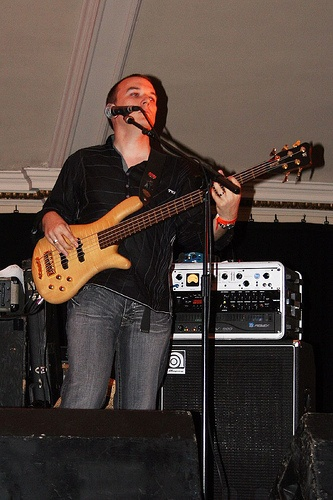head: (105, 74, 158, 136)
person: (31, 68, 233, 419)
